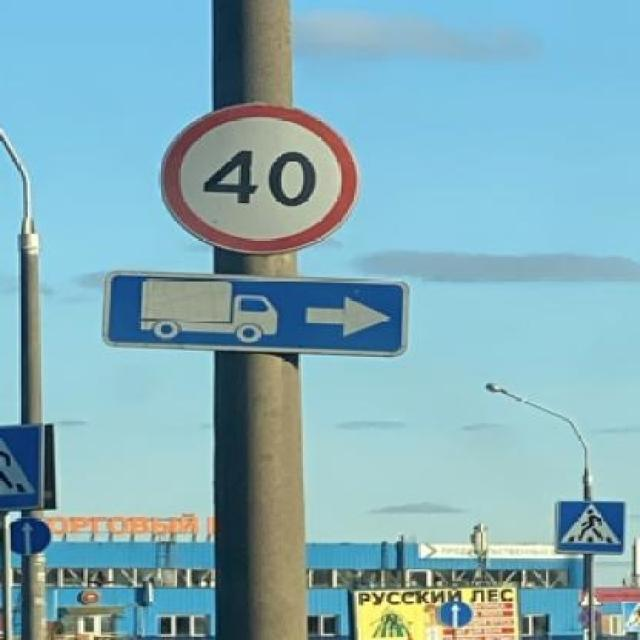forb_speed_over_40: (166, 104, 360, 251)
